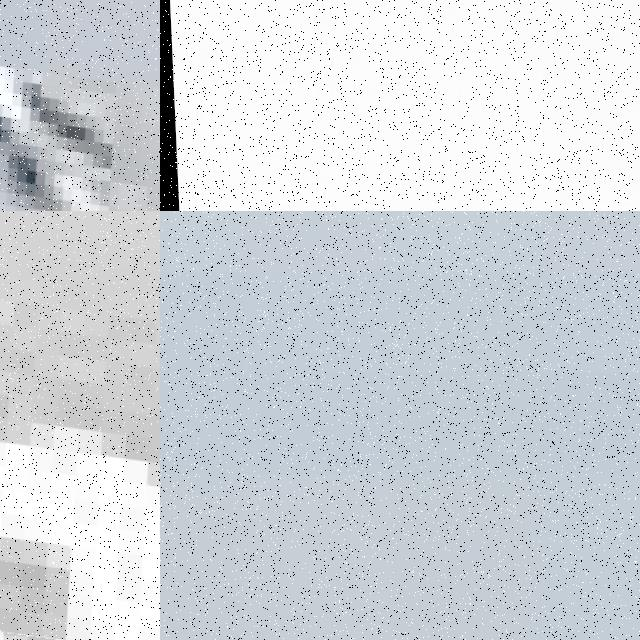drone: (160, 0, 640, 211), (0, 211, 160, 640), (0, 0, 160, 211)
